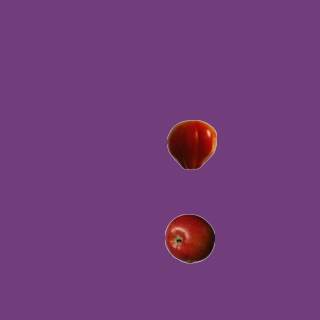Apple Braeburn: (164, 213, 214, 263)
Tomato 1: (166, 119, 216, 169)
